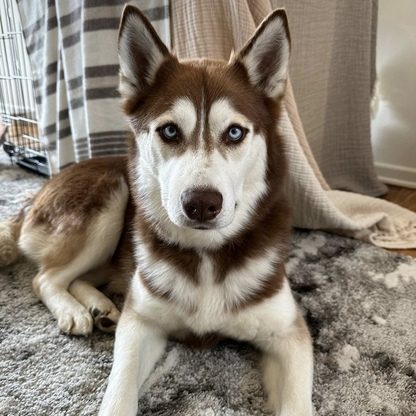husky: (1, 1, 333, 416)
